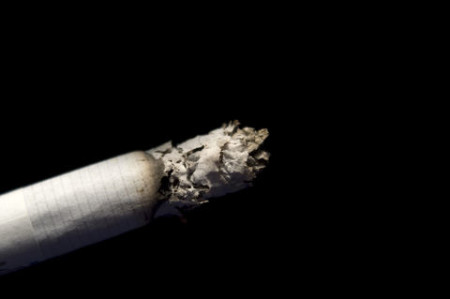cigarette: (4, 116, 275, 270)
